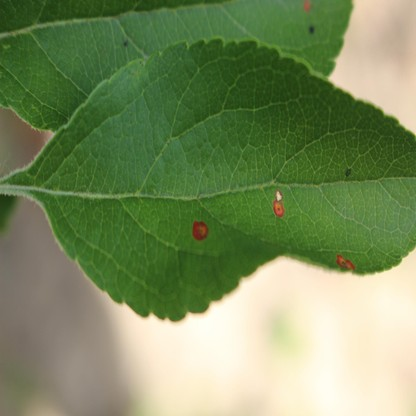rust: (336, 252, 354, 270), (193, 220, 207, 240), (274, 190, 283, 216), (303, 0, 310, 10)
